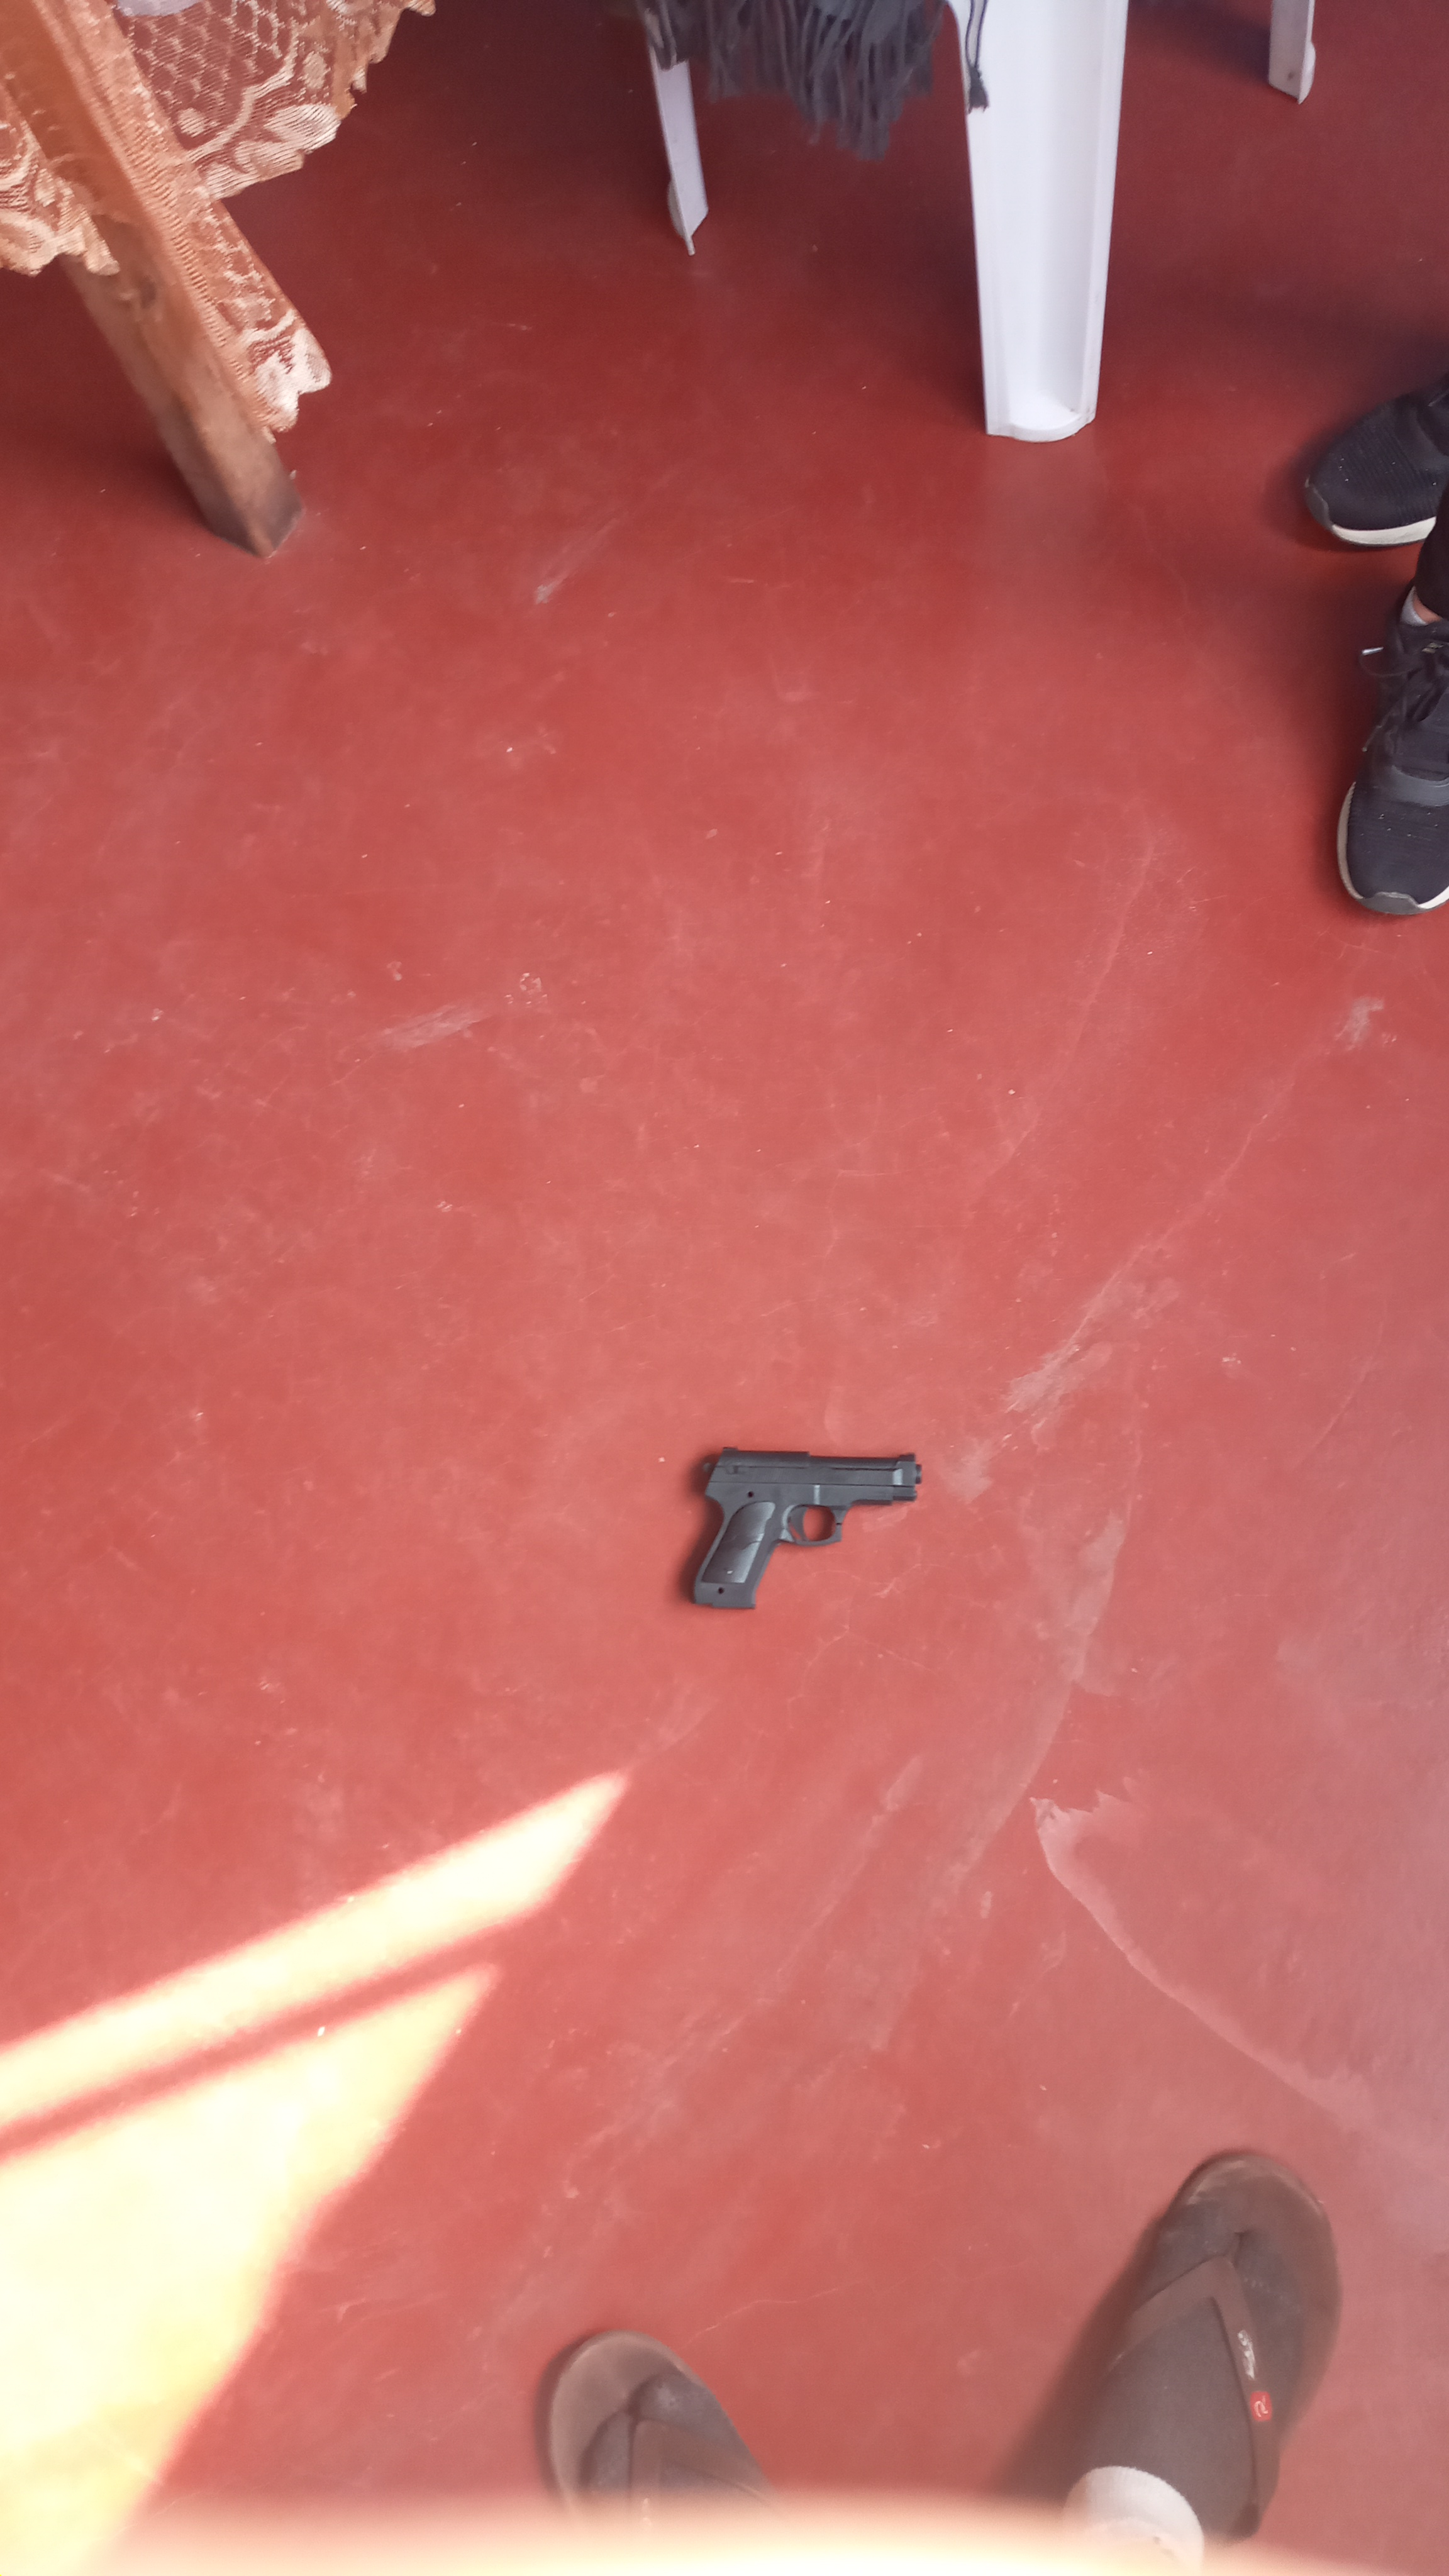Arma: (663, 1442, 927, 1559)
